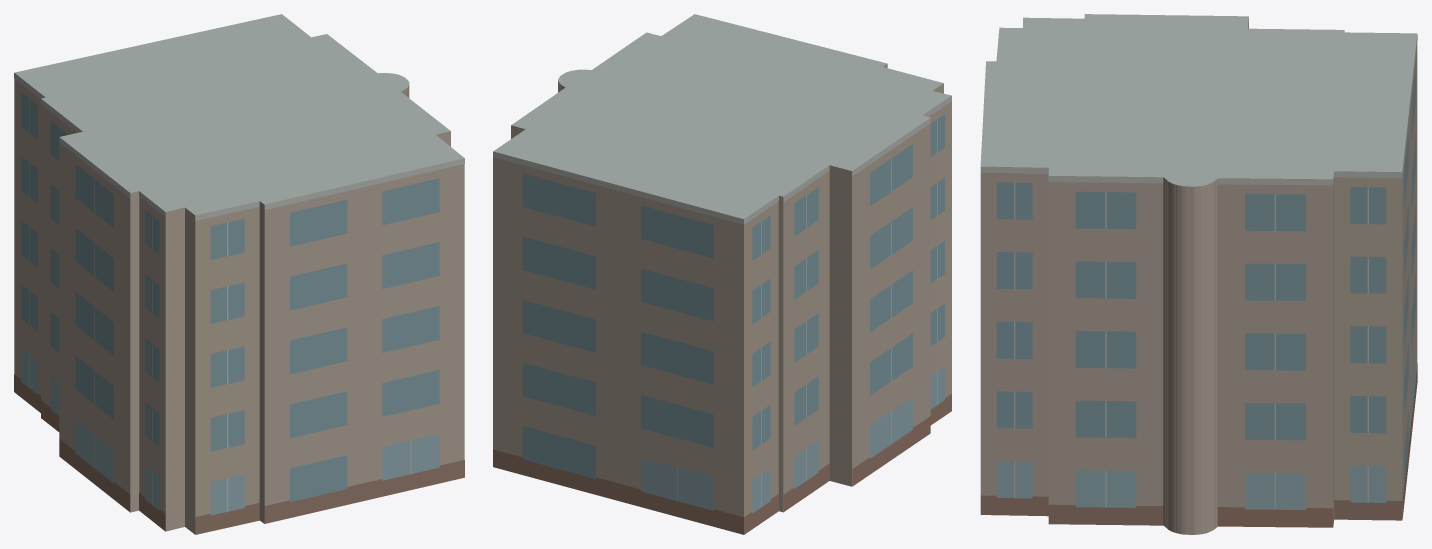
The model's file is survey-upis-33038306.glb.
3 renders of one model, left to right at view 1: azimuth 30°, elevation 25°; view 2: azimuth 150°, elevation 25°; view 3: azimuth 270°, elevation 25°, orthographic. The views are drawn at different scales.
Visible parts, largest first — view 1: survey-upis-33038306.tmp; view 2: survey-upis-33038306.tmp; view 3: survey-upis-33038306.tmp.
Part boxes in pixels (x1=…): survey-upis-33038306.tmp: x1=14, y1=14, x2=464, y2=534; survey-upis-33038306.tmp: x1=493, y1=14, x2=951, y2=534; survey-upis-33038306.tmp: x1=980, y1=14, x2=1417, y2=534.
Bounding box in the file's own units: 14.67 × 13.8 × 15.7.
